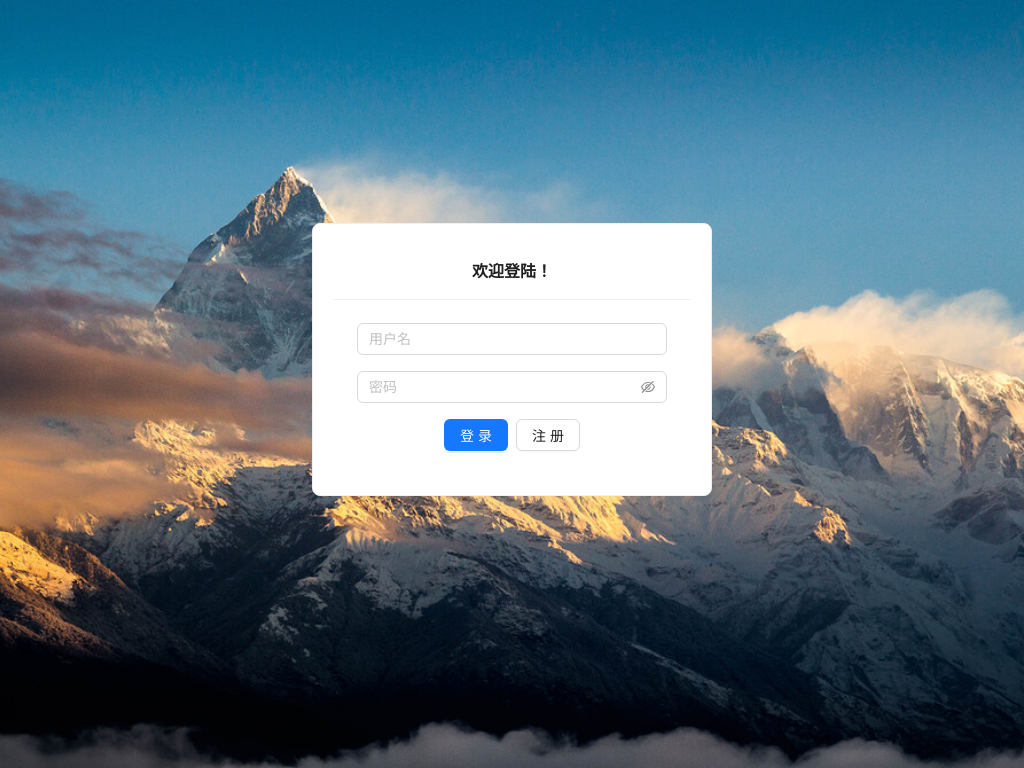
it: 注册测试 › 测试在两次输入密码不相同时注册失败
Click the button with test id "register-show-button" at (548, 435), box 516,419 -> 580,451
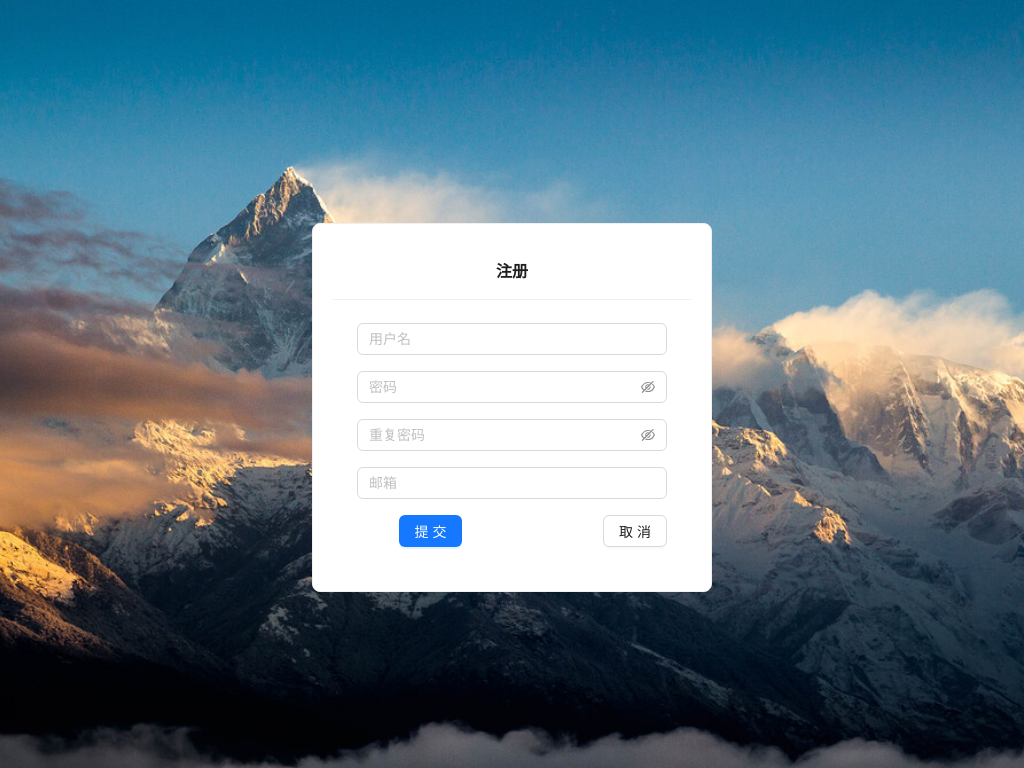
Type "userTest" into the field with placeholder "用户名" at (512, 339), box 357,323 -> 667,355
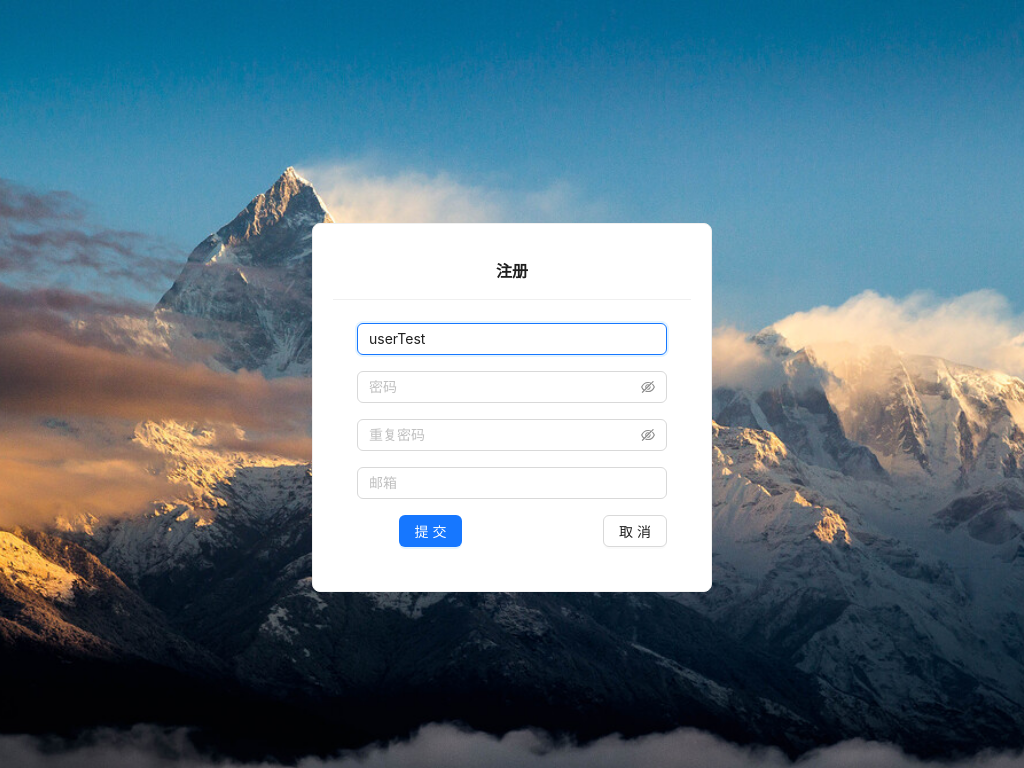
Type "2" into the password field with placeholder "密码" at (503, 387), box 369,376 -> 637,398
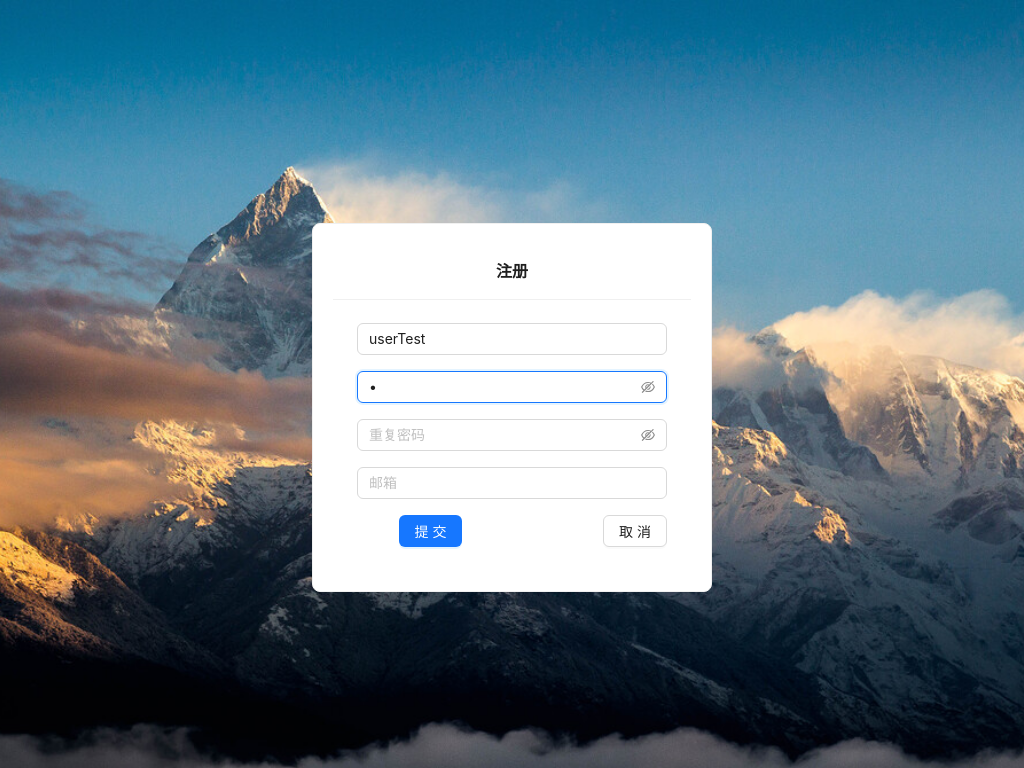
Type "3" into the password field with placeholder "重复密码" at (503, 435), box 369,424 -> 637,446
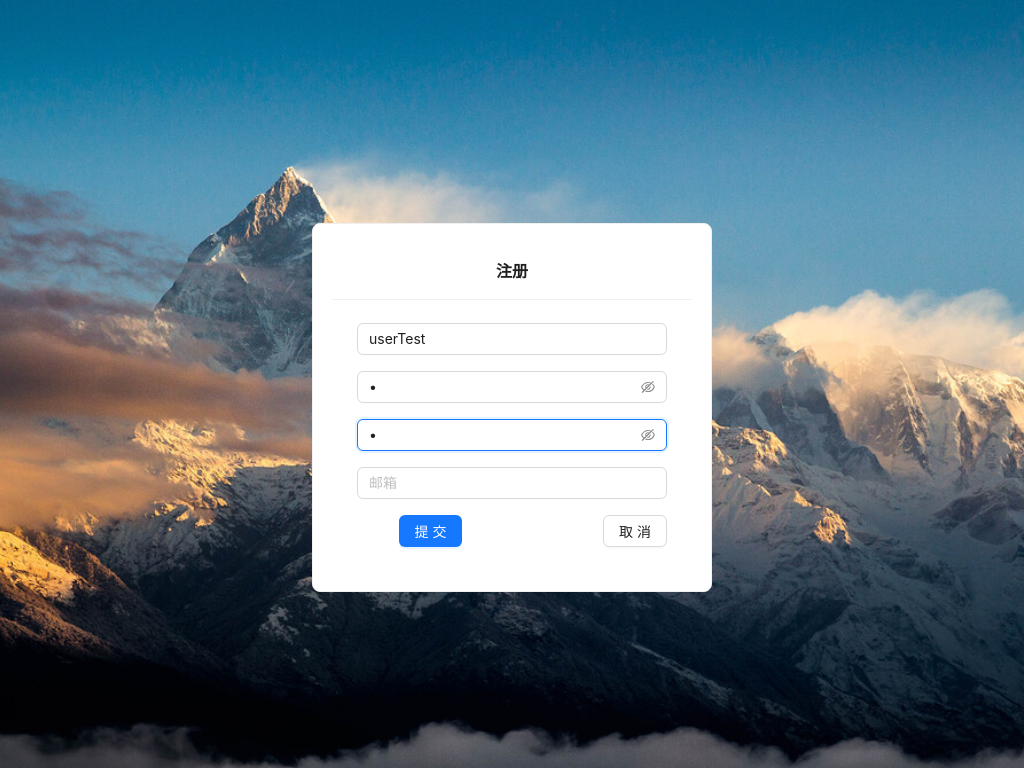
Type "illyaks0@sjtu.edu.cn" into the field with placeholder "邮箱" at (512, 483), box 357,467 -> 667,499
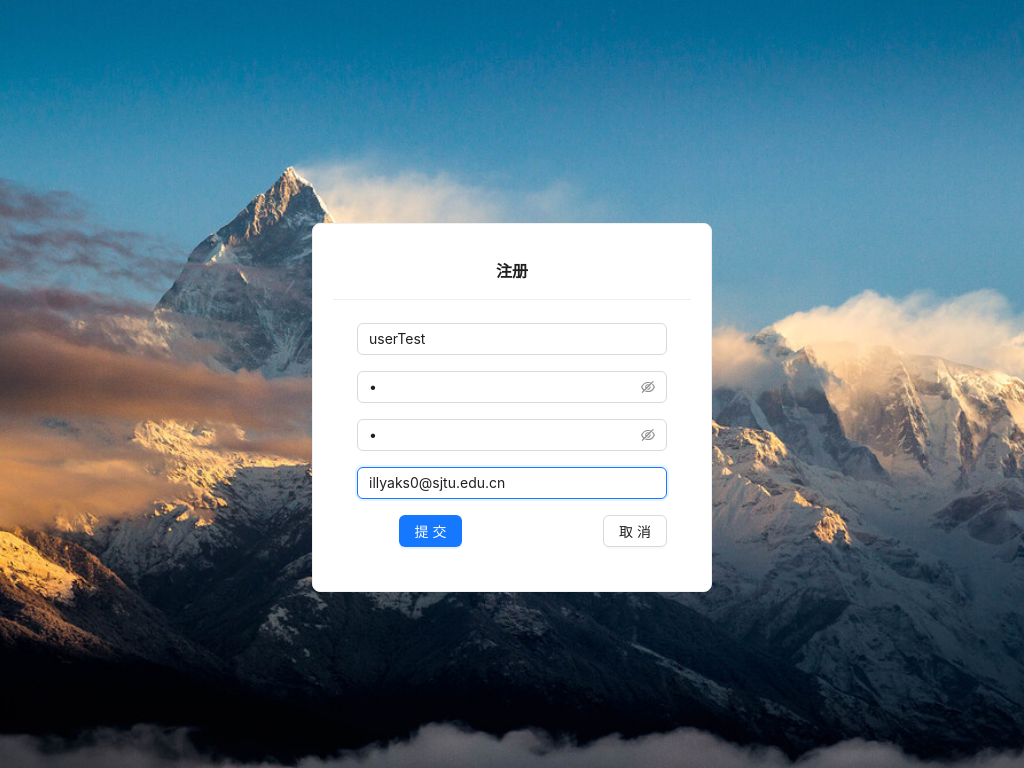
Click the button with test id "register-submit-button" at (431, 531), box 399,515 -> 463,547
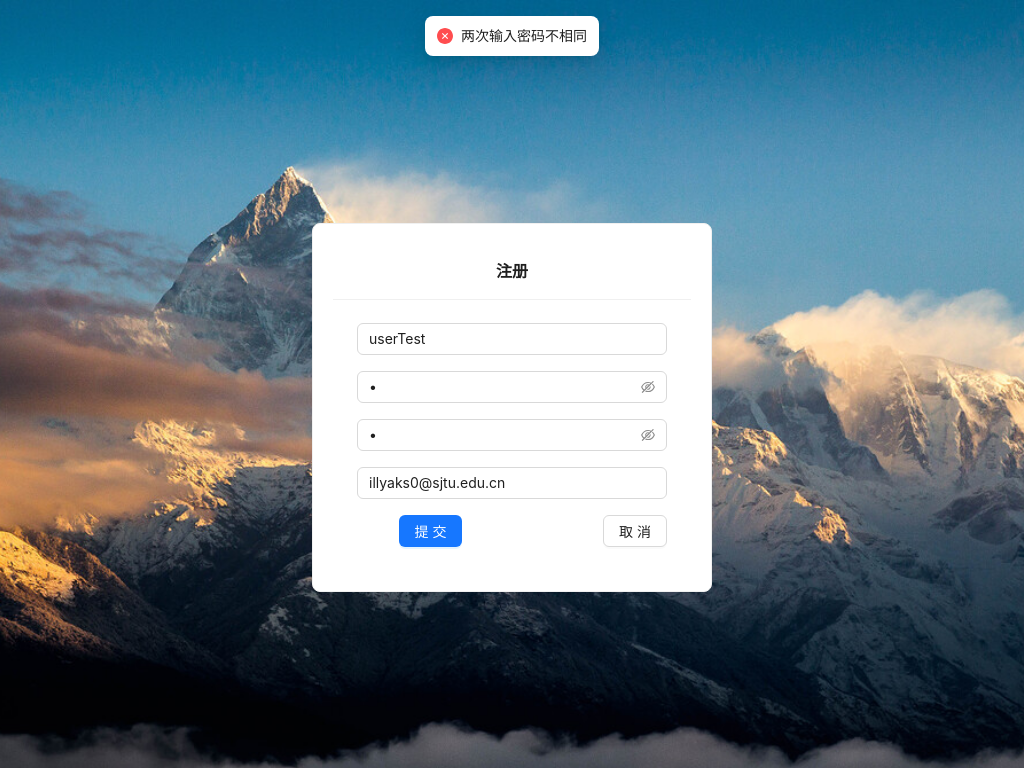
Expected: the text "两次输入密码不相同" is shown, 461,25 -> 587,47
